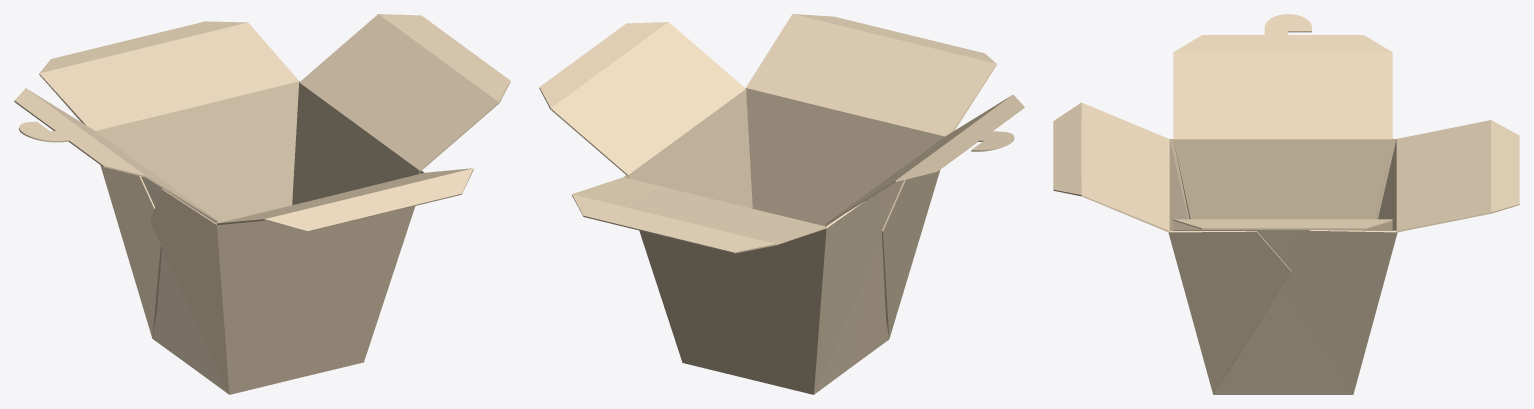
The model's file is comida-china.fbx.
The picture shows the model from 3 angles, left to right: view 1: azimuth 30°, elevation 25°; view 2: azimuth 150°, elevation 25°; view 3: azimuth 270°, elevation 25°; orthographic projection. The views are drawn at different scales.
Visible parts, largest first — view 1: Comida China; view 2: Comida China; view 3: Comida China.
Boxes of the visible parts, x1,y1,x2,y2 form: Comida China: (14,14,510,394); Comida China: (539,14,1024,394); Comida China: (1053,14,1519,394).
Size of the model in its own units: 48.7 by 28.81 by 49.11.
1 material, 1 textured.
